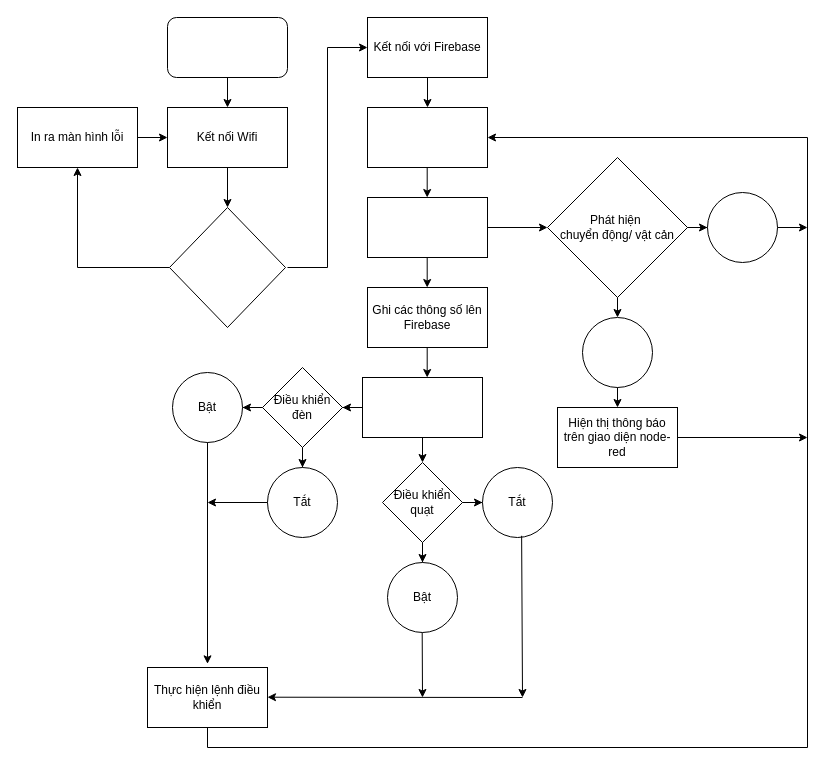
The diagram is 833 pixels wide and 766 high, and some of its shapes have lost their labels. The shapes that lost their labels are listed below. From the top down, each one's centre as x and y in pixels, then its label:
At (x=227, y=47): "Bắt đầu".
At (x=427, y=137): "Đọc các thông số của các cảm biến và nút nhấn".
At (x=427, y=227): "In ra màn hình các giá trị đọc được".
At (x=742, y=227): "Không".
At (x=227, y=267): "Kiểm tra kết nối".
At (x=617, y=352): "Có".
At (x=422, y=407): "Gửi và hiển thị dữ liệu lên node-red".
